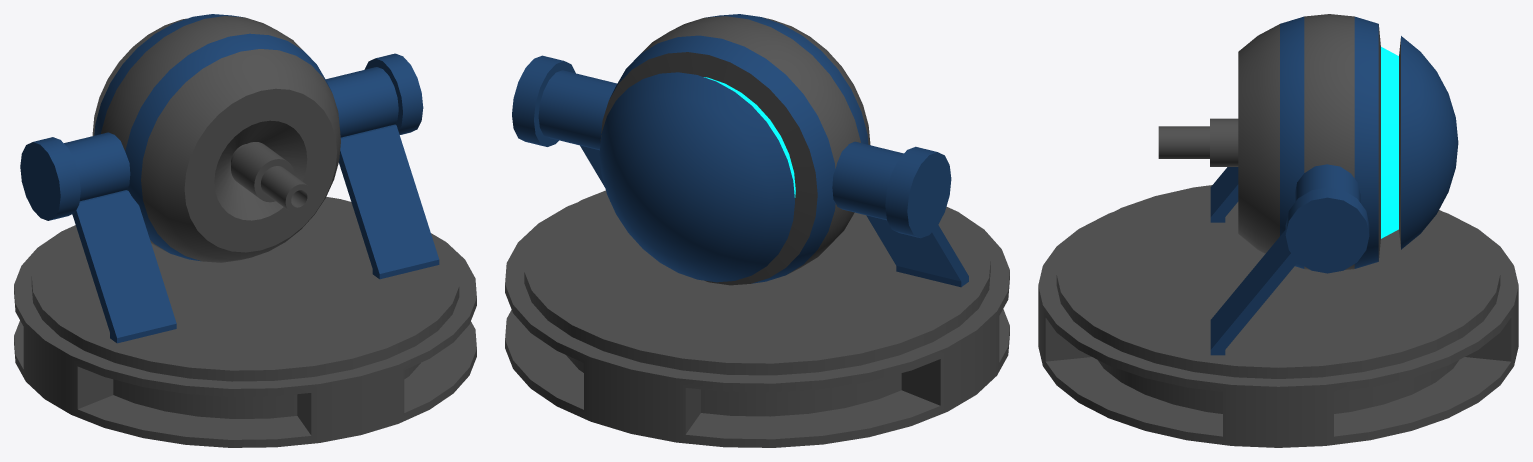
The model's file is Turret WIP.fbx.
3 renders of one model, left to right at view 1: azimuth 30°, elevation 25°; view 2: azimuth 150°, elevation 25°; view 3: azimuth 270°, elevation 25°, orthographic. The views are drawn at different scales.
Parts seen in each view (by area): view 1: Cube; view 2: Cube; view 3: Cube.
Boxes of the visible parts, x1,y1,x2,y2 form: Cube: (14,14,476,447); Cube: (505,14,1009,447); Cube: (1038,14,1518,447).
Size of the model in its own units: 200 by 146 by 200.
